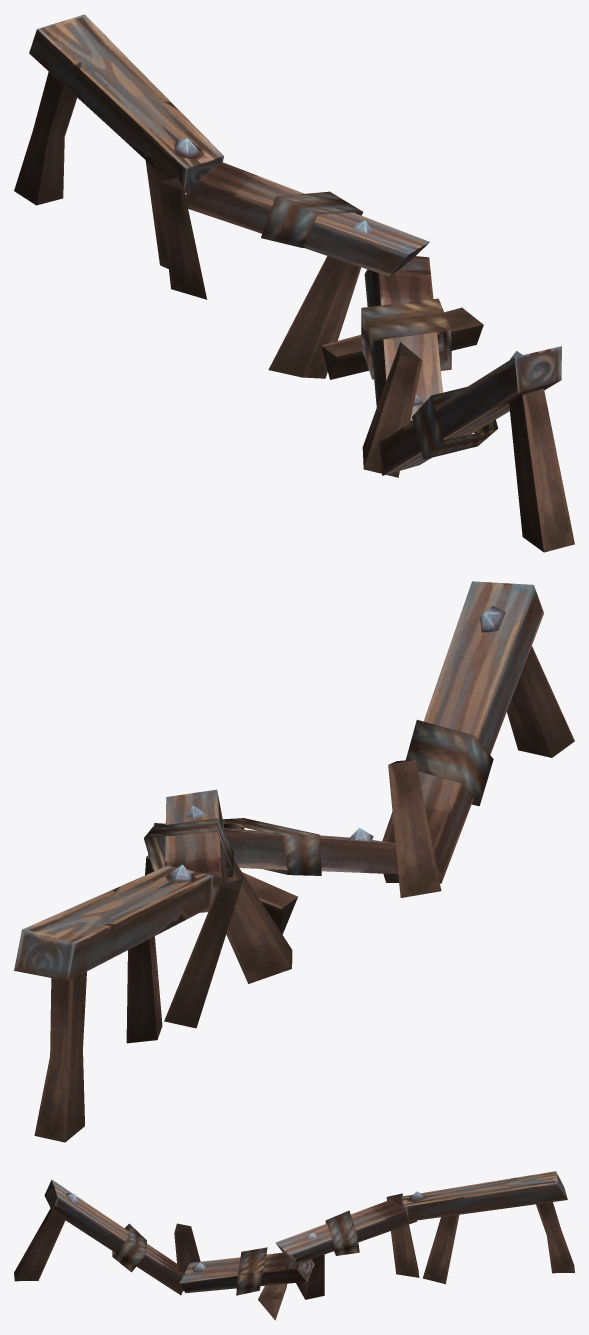
Rendered from mine_railing06.fbx.
3 views of the same model, one above another, from view 1: azimuth 30°, elevation 25°; view 2: azimuth 150°, elevation 25°; view 3: azimuth 270°, elevation 25° (orthographic). The views are drawn at different scales.
Parts seen in each view (by area): view 1: 13_-_Default; view 2: 13_-_Default; view 3: 13_-_Default.
Boxes of the visible parts, left/top/right/bottom form: 13_-_Default: left=14, top=14, right=574, bottom=552; 13_-_Default: left=14, top=581, right=574, bottom=1142; 13_-_Default: left=14, top=1171, right=574, bottom=1320.
Size of the model in its own units: 1.92 by 1.89 by 8.24.
